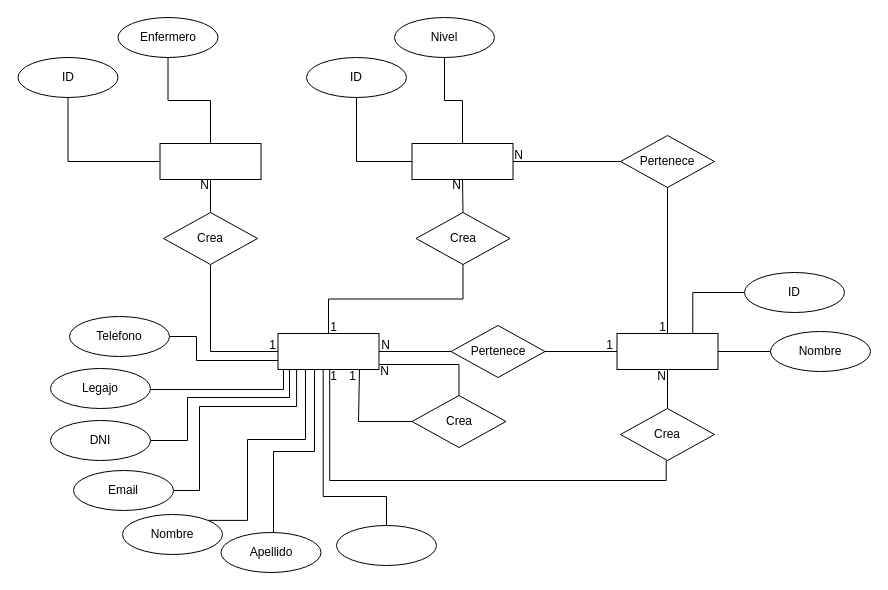
The diagram is 888 pixels wide and 590 high, and some of its shapes have lost their labels. Each missing label, with the centre of its shape:
"Area" belongs at (x=667, y=351).
"EsAdmin" belongs at (x=386, y=545).
"Ficha" belongs at (x=210, y=161).
"Reporte" belongs at (x=462, y=161).
"Usuario" belongs at (x=328, y=351).
